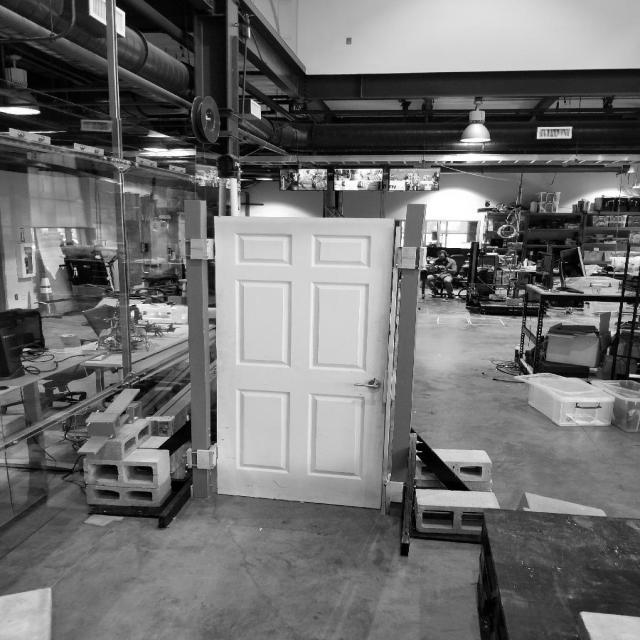door: (209, 212, 398, 512), (351, 376, 384, 394)
